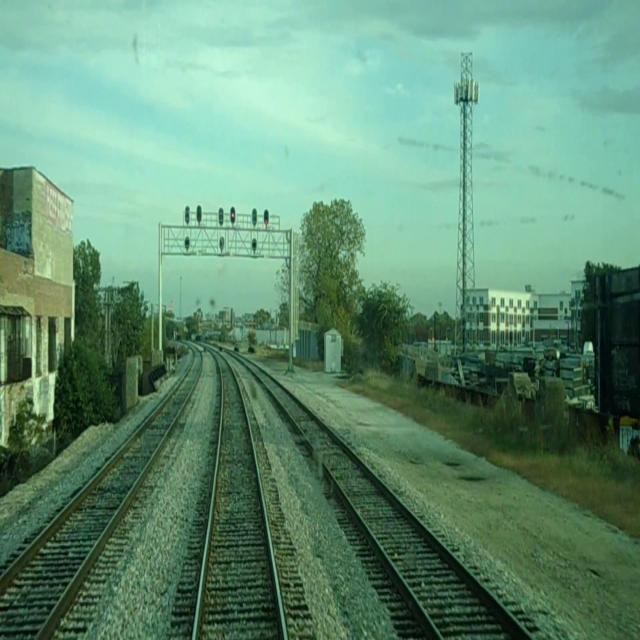rail-track: (252, 366, 528, 639), (0, 350, 200, 639), (196, 356, 282, 639)
